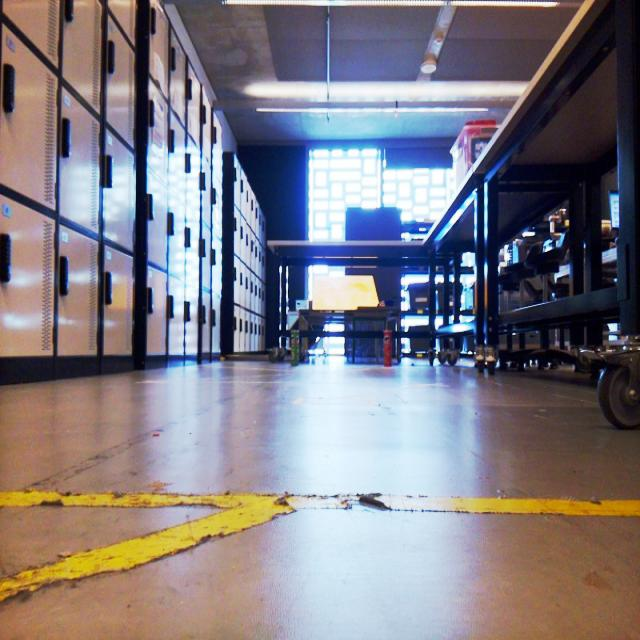greenpringles: (284, 311, 314, 377)
redpringles: (382, 313, 406, 378)
